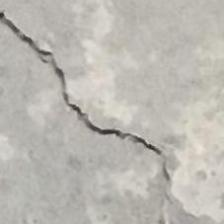Crack: (0, 2, 189, 181)
